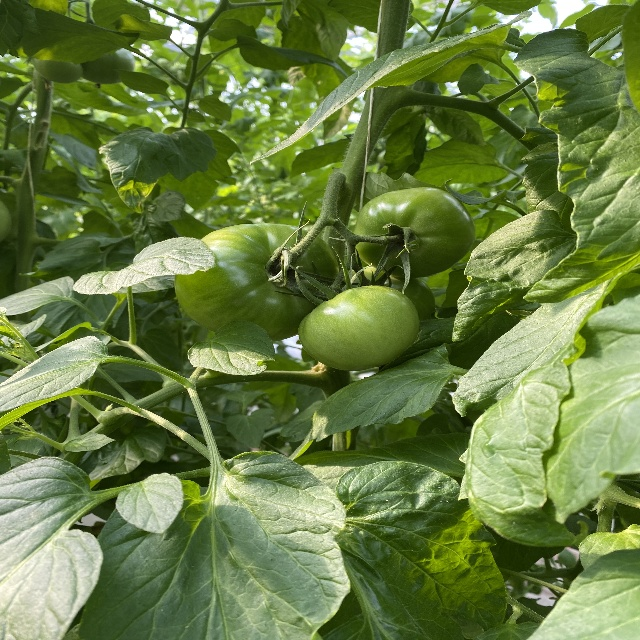b_green: (174, 224, 341, 343), (353, 188, 476, 277), (298, 285, 422, 371), (339, 267, 436, 333)
